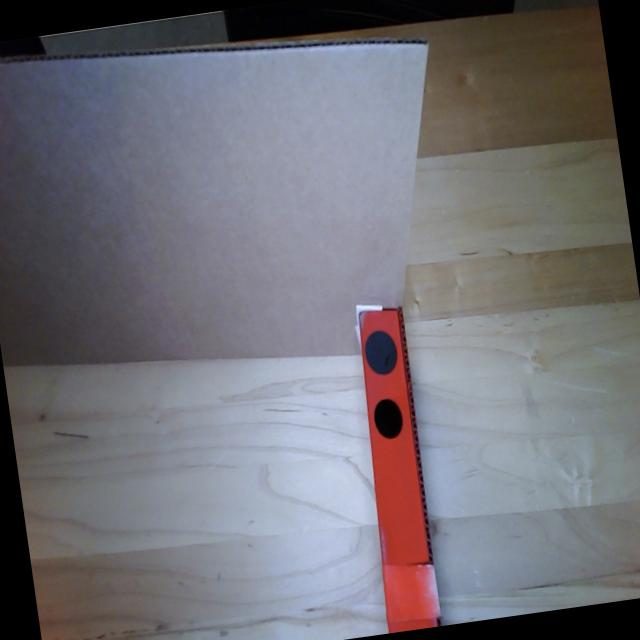Hole: (370, 392, 410, 442)
Sticker: (360, 328, 400, 378)
